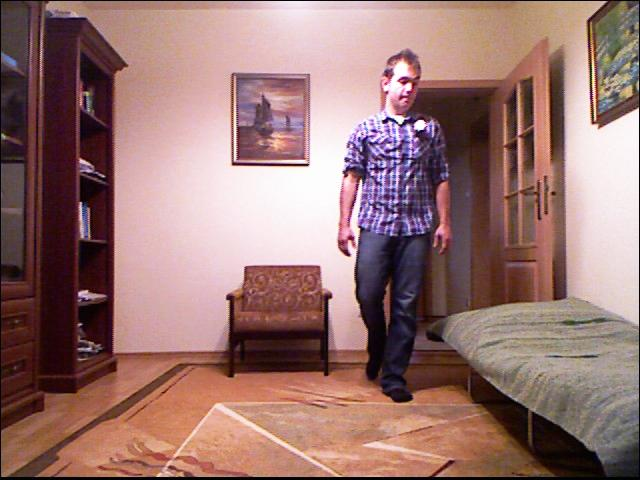walking: (332, 43, 462, 422)
